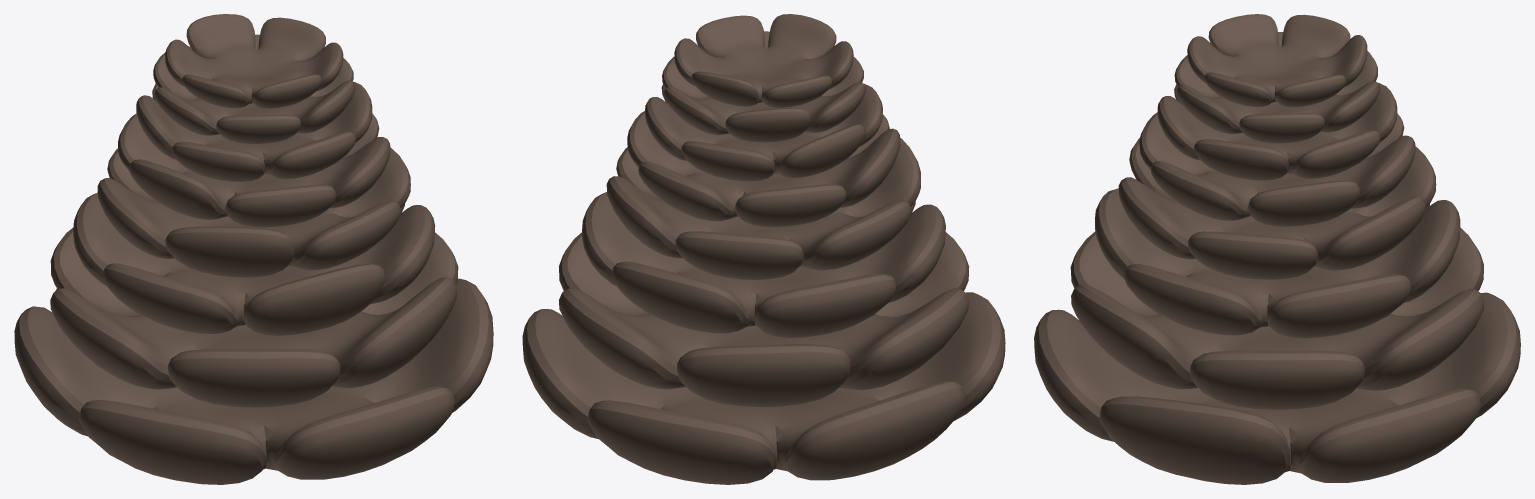
File: Pinecone_high_v2.fbx
The picture shows the model from 3 angles, left to right: view 1: azimuth 30°, elevation 25°; view 2: azimuth 150°, elevation 25°; view 3: azimuth 270°, elevation 25°; orthographic projection.
Parts seen in each view (by area): view 1: Pinecone_high; view 2: Pinecone_high; view 3: Pinecone_high.
Boxes of the visible parts, x1=… form: Pinecone_high: x1=14, y1=14, x2=493, y2=484; Pinecone_high: x1=522, y1=14, x2=1005, y2=484; Pinecone_high: x1=1034, y1=14, x2=1520, y2=484.
Bounding box in the file's own units: 165 × 152 × 167.
